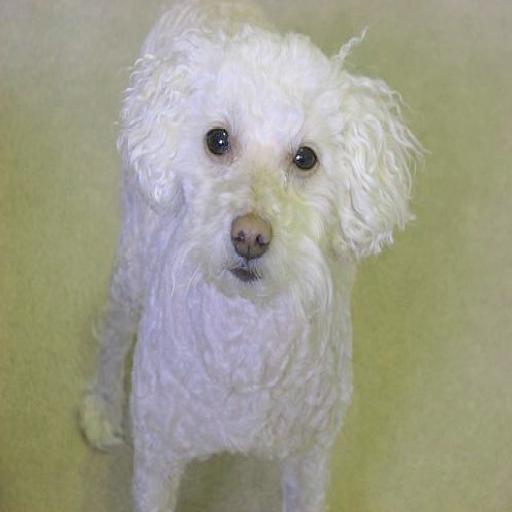dog_face: (128, 17, 407, 297)
